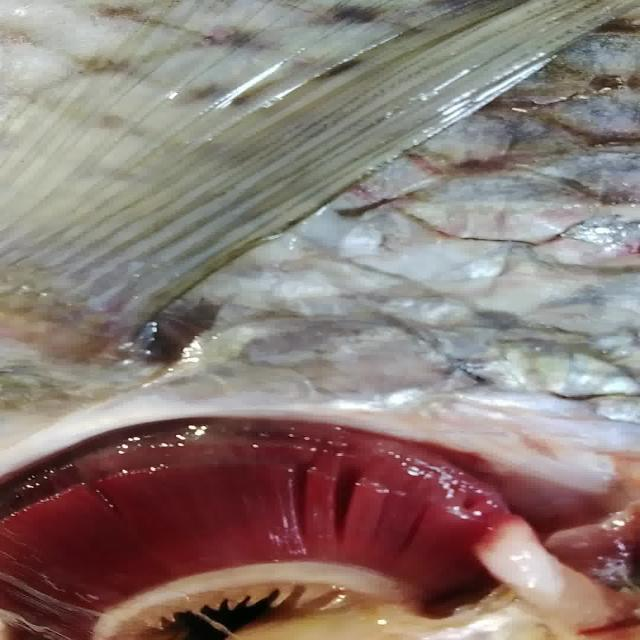Fresh: (6, 393, 604, 640)
